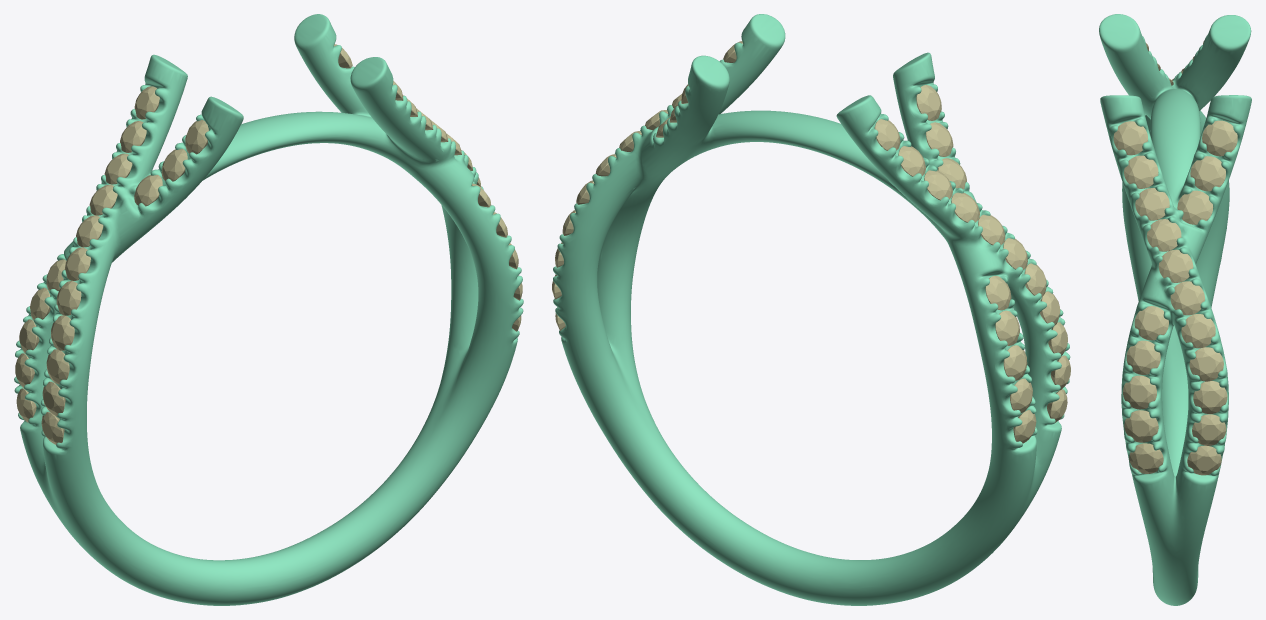
3 renders of one model, left to right at view 1: azimuth 30°, elevation 25°; view 2: azimuth 150°, elevation 25°; view 3: azimuth 270°, elevation 25°, orthographic. The views are drawn at different scales.
Visible parts, largest first — view 1: Metal02; view 2: Metal02, Diamond_Gem.021; view 3: Metal02, Diamond_Gem.016, Diamond_Gem.017, Diamond_Gem.018, Diamond_Gem.004, Diamond_Gem.012, Diamond_Gem.005, Diamond_Gem.011, Diamond_Gem.003, Diamond_Gem.010, Diamond_Gem.013, Diamond_Gem.009 (+8 smaller).
Part boxes in pixels (<box>): Metal02: <box>14,14,523,605</box>; Metal02: <box>553,14,1070,605</box>; Diamond_Gem.021: <box>916,85,941,120</box>; Metal02: <box>1099,14,1251,605</box>; Diamond_Gem.016: <box>1202,120,1237,156</box>; Diamond_Gem.017: <box>1190,156,1225,191</box>; Diamond_Gem.018: <box>1177,190,1213,224</box>; Diamond_Gem.004: <box>1181,314,1215,348</box>; Diamond_Gem.012: <box>1126,340,1160,374</box>; Diamond_Gem.005: <box>1170,281,1204,315</box>; Diamond_Gem.011: <box>1134,306,1168,340</box>; Diamond_Gem.003: <box>1189,347,1223,381</box>; Diamond_Gem.010: <box>1113,121,1147,155</box>; Diamond_Gem.013: <box>1123,375,1156,409</box>; Diamond_Gem.009: <box>1124,155,1158,188</box>.
Bounding box in the file's own units: 21.08 × 22.78 × 6.
